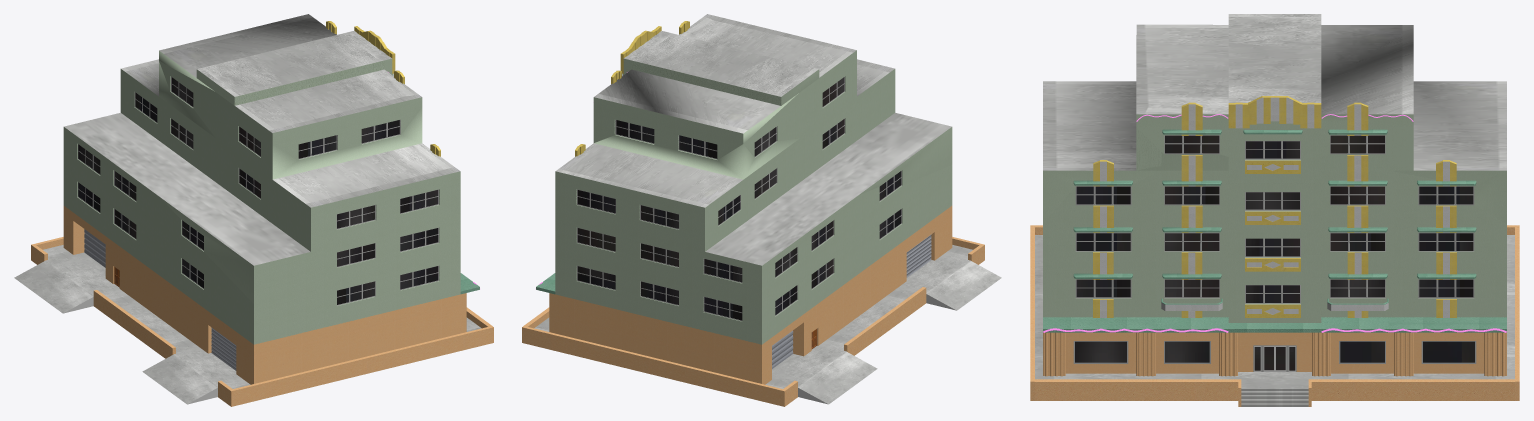
File: green_apartment.glb
The picture shows the model from 3 angles, left to right: view 1: azimuth 30°, elevation 25°; view 2: azimuth 150°, elevation 25°; view 3: azimuth 270°, elevation 25°; orthographic projection. The views are drawn at different scales.
Parts seen in each view (by area): view 1: green_apartment; view 2: green_apartment; view 3: green_apartment.
Part boxes in pixels (x1,y1,x2,y2): green_apartment: (14,14,493,406); green_apartment: (522,14,1001,406); green_apartment: (1030,14,1519,406).
Size of the model in its own units: 19.19 by 14.47 by 21.93.
10 materials, 9 textured.
